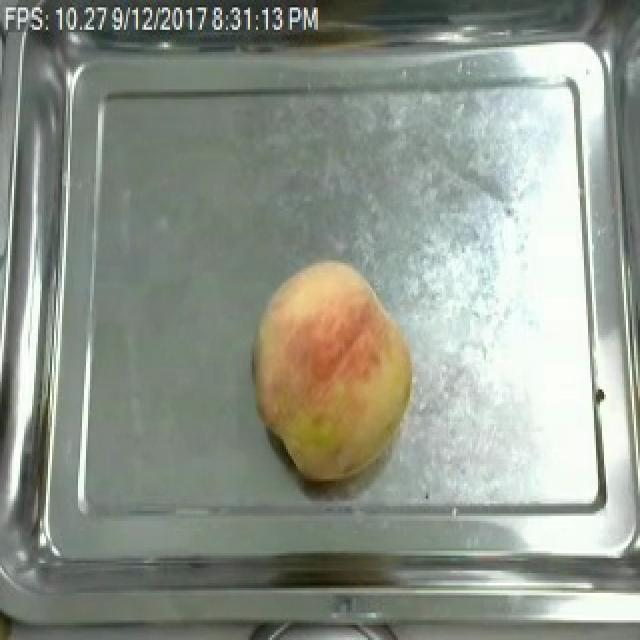Fruit: (244, 256, 422, 486)
